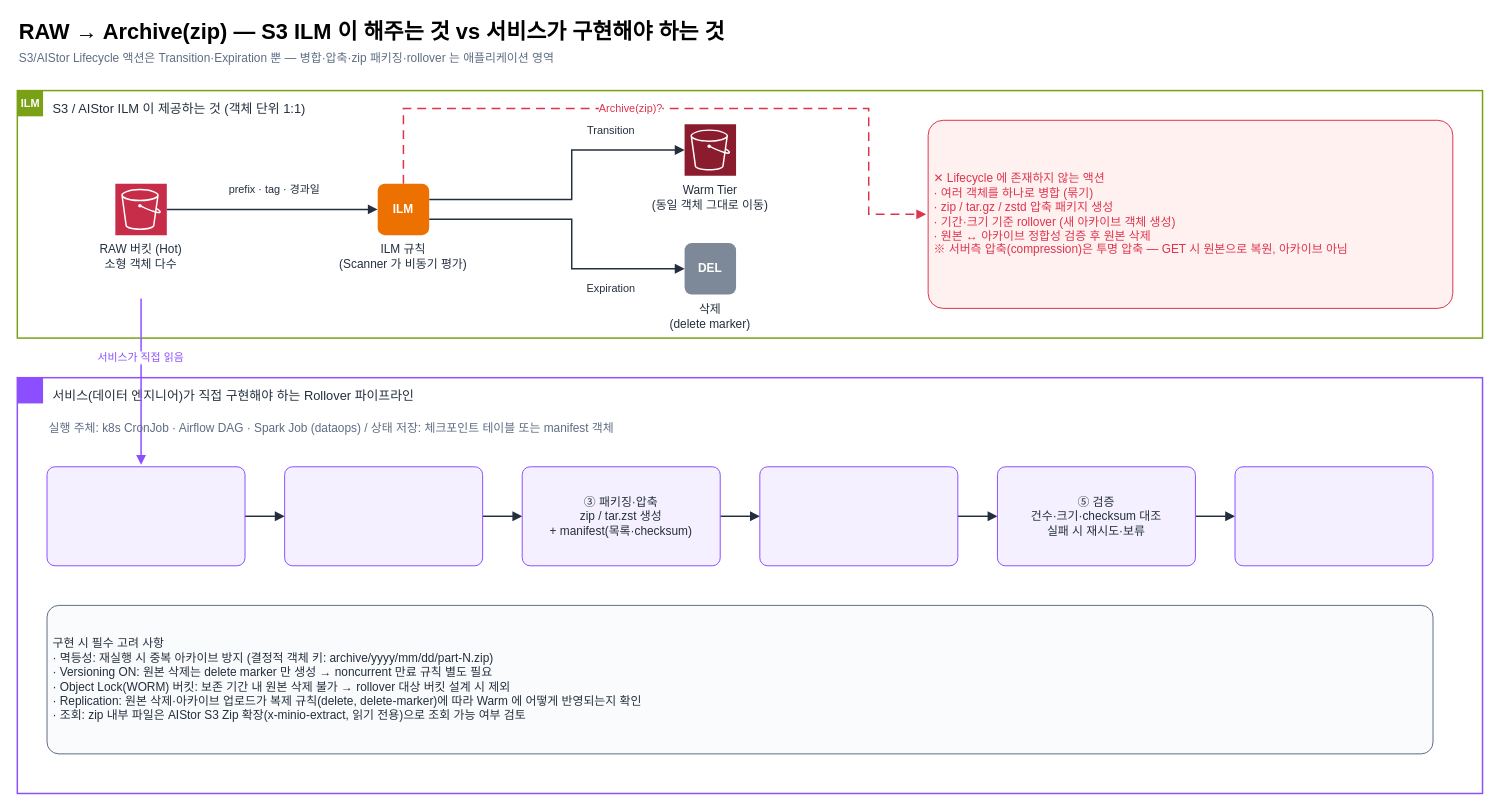
Image size: 1501x811. Some labels were removed from this diagram. Each missing label, with the centre of its shape:
"k8s" goes at (30,390).
"① 대상 선정 ListObjectsV2 prefix·날짜 파티션 (rollover 기준: 기간·크기)" goes at (145,516).
"② 읽기 GetObject 병렬 스트리밍" goes at (383,516).
"④ 업로드 Multipart PutObject → archive/ 버킷 (Warm)" goes at (858,516).
"⑥ 원본 정리 DeleteObjects 또는 태그 → ILM Expiration" goes at (1333,516).
